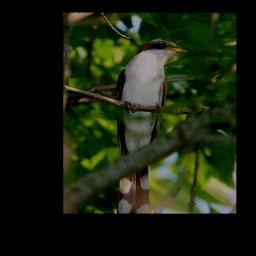Cuckoo: (113, 37, 194, 213)
